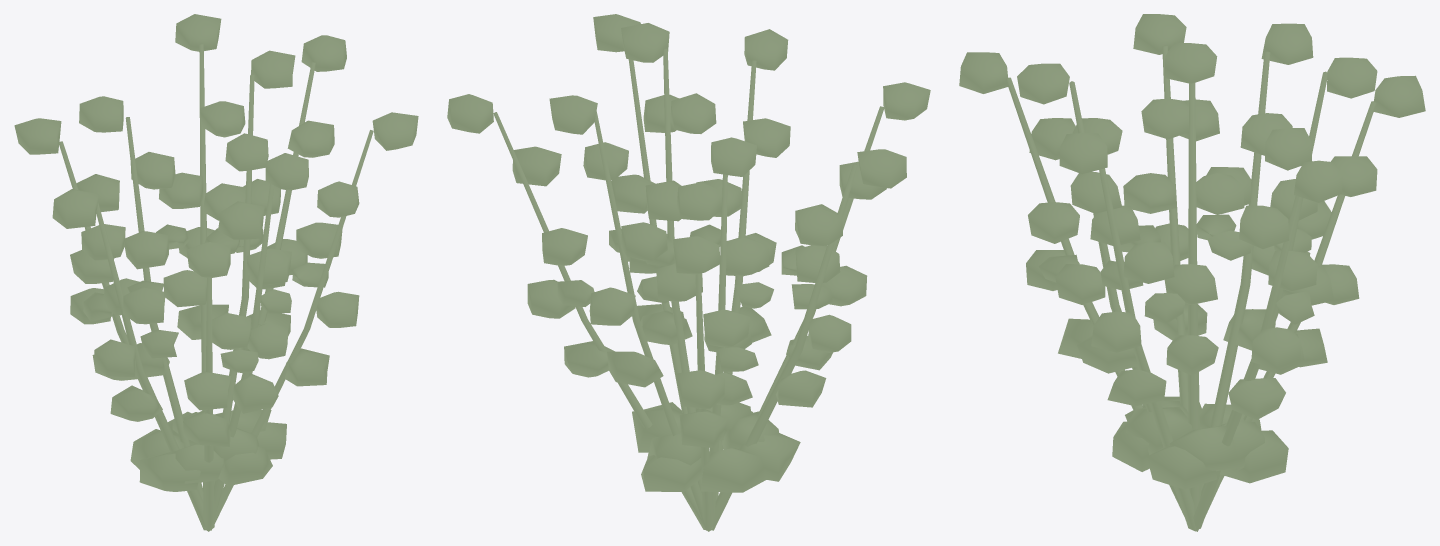
Rendered from Blender_Globemallow_1.glb.
3 views of the same model, side by side, from view 1: azimuth 30°, elevation 25°; view 2: azimuth 150°, elevation 25°; view 3: azimuth 270°, elevation 25° (orthographic). The views are drawn at different scales.
Parts seen in each view (by area): view 1: Blender_Globemallow_1; view 2: Blender_Globemallow_1; view 3: Blender_Globemallow_1.
Boxes of the visible parts, x1=… form: Blender_Globemallow_1: x1=14, y1=14, x2=418, y2=531; Blender_Globemallow_1: x1=447, y1=14, x2=930, y2=531; Blender_Globemallow_1: x1=959, y1=14, x2=1425, y2=531.
Size of the model in its own units: 0.4953 by 0.6119 by 0.4955.
